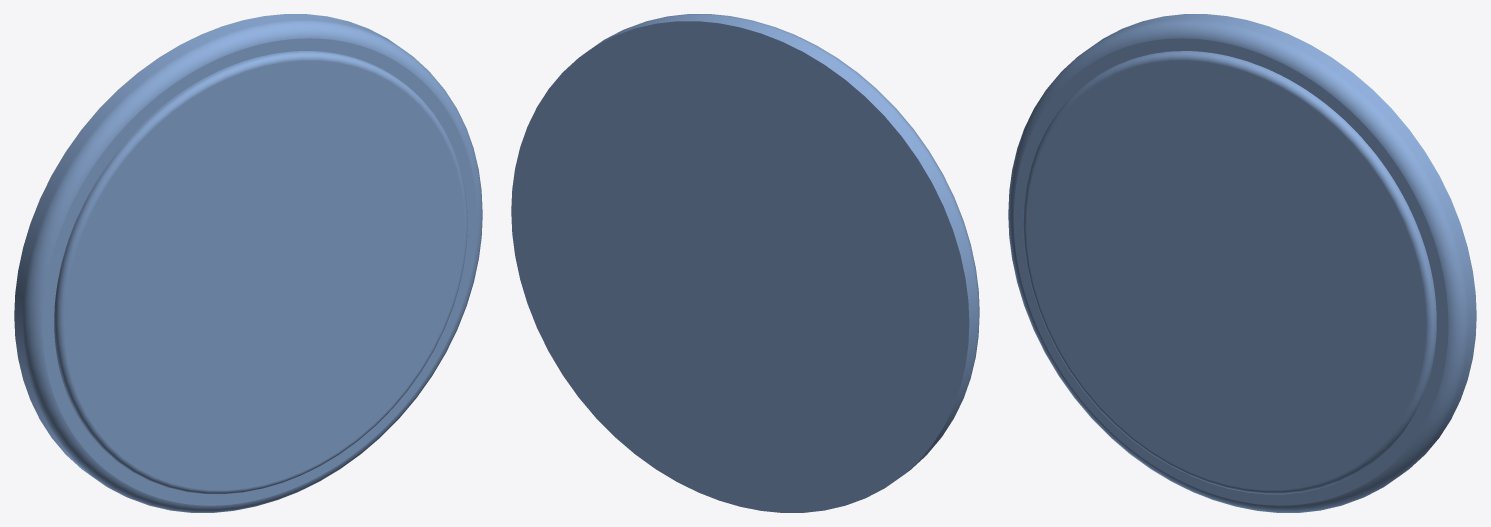
The model's file is Cell.glb.
3 views of the same model, side by side, from view 1: azimuth 30°, elevation 25°; view 2: azimuth 150°, elevation 25°; view 3: azimuth 330°, elevation 25° (orthographic).
Visible parts, largest first — view 1: cell; view 2: cell; view 3: cell.
Part boxes in pixels (x1,y1,x2,y2): cell: (14,14,482,512); cell: (511,14,979,512); cell: (1008,14,1476,512).
Bounding box in the file's own units: 38.92 × 38.92 × 3.13.
